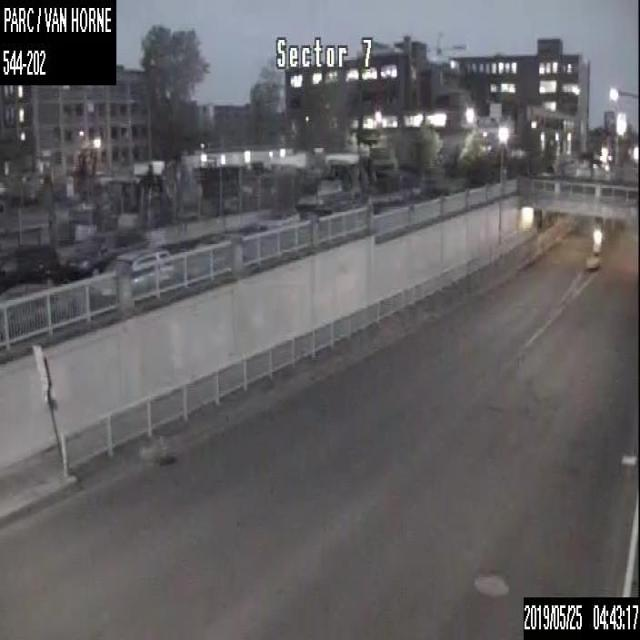vehicle: (88, 246, 174, 304), (0, 283, 80, 345), (64, 228, 149, 280), (180, 230, 244, 281), (0, 243, 62, 292)
